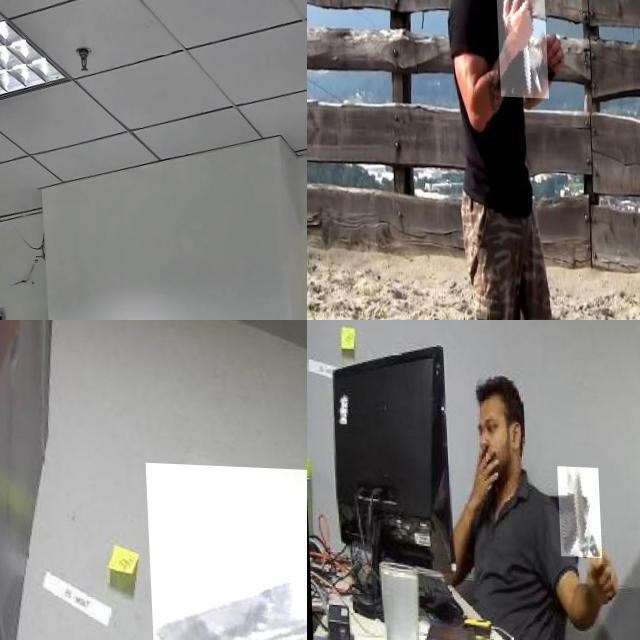-: (143, 460, 307, 640), (494, 0, 546, 95), (554, 464, 598, 555)
